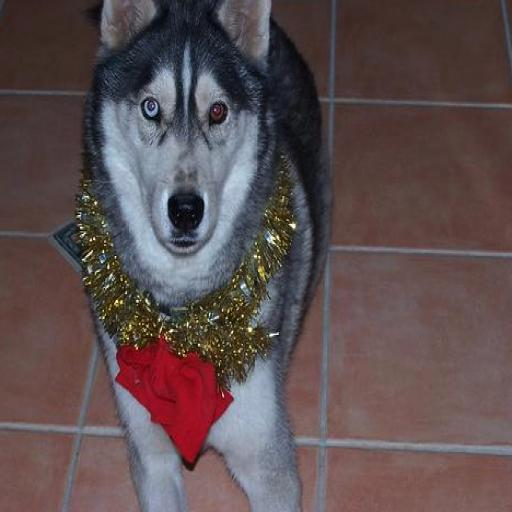dog_face: (96, 0, 269, 243)
